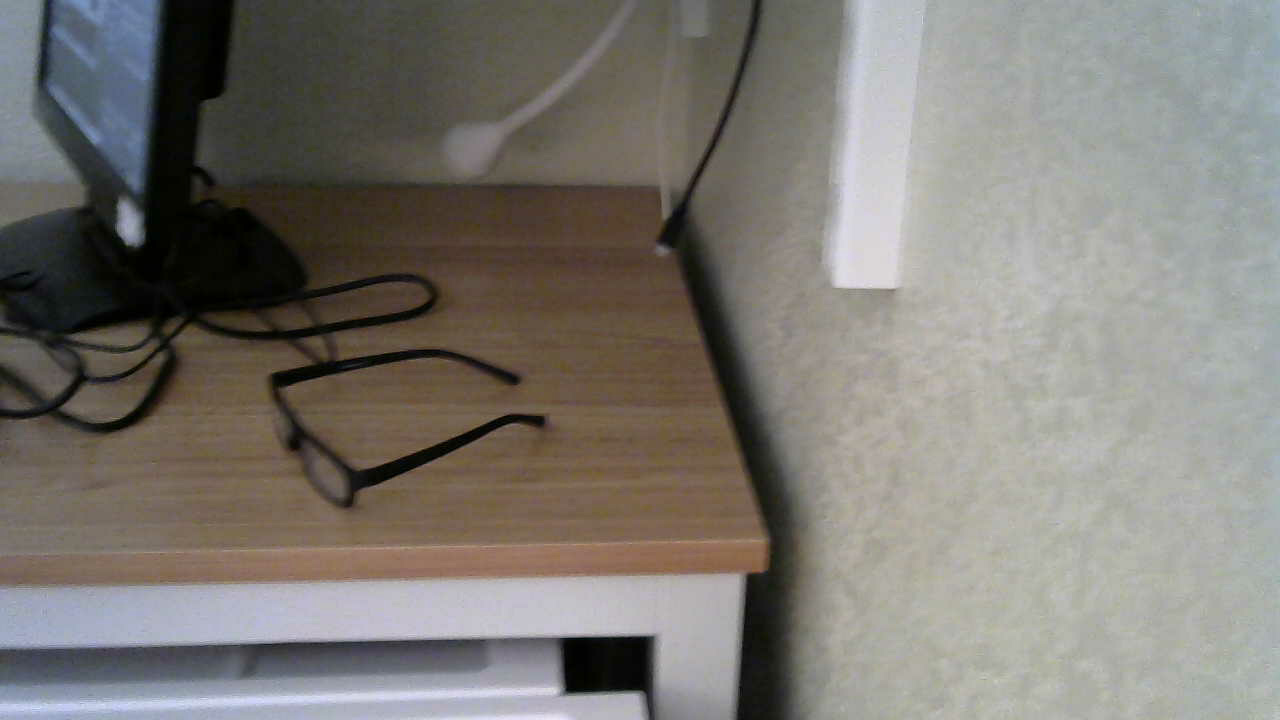Glasses: (260, 327, 546, 539)
